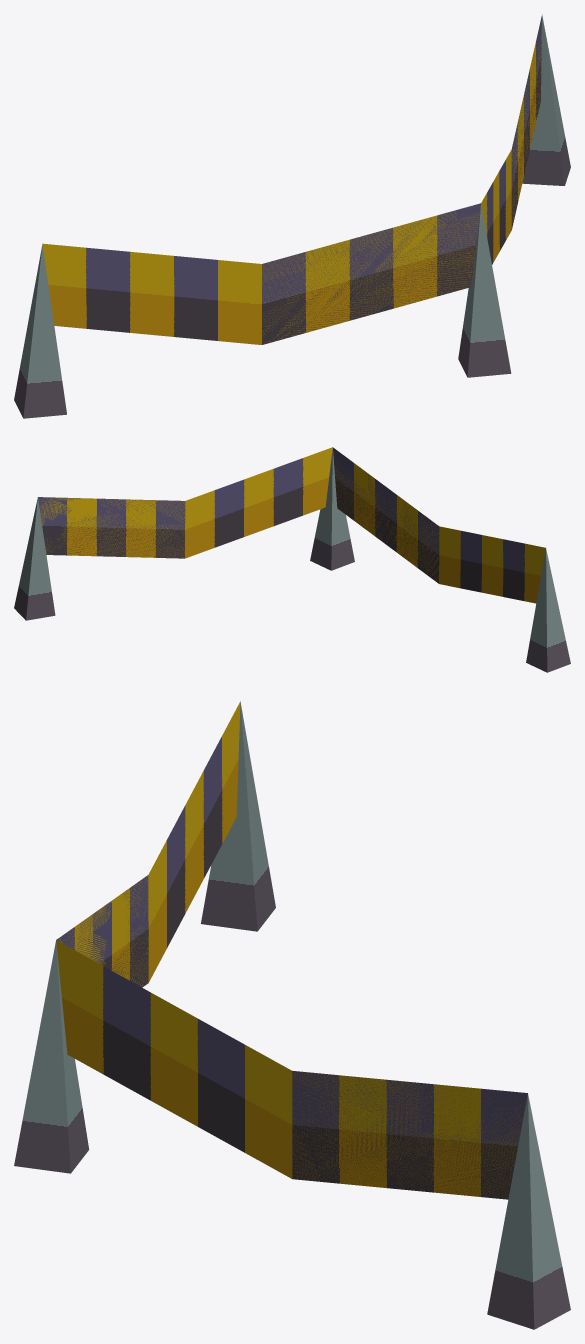
File: tape_double.fbx
3 views of the same model, one above another, from view 1: azimuth 30°, elevation 25°; view 2: azimuth 150°, elevation 25°; view 3: azimuth 270°, elevation 25° (orthographic). The views are drawn at different scales.
Parts seen in each view (by area): view 1: TapeDouble; view 2: TapeDouble; view 3: TapeDouble.
Part boxes in pixels (x1,y1,x2,y2): TapeDouble: (14,14,570,418); TapeDouble: (14,447,570,672); TapeDouble: (14,701,570,1329).
Bounding box in the file's own units: 53.59 × 12.68 × 29.13.
Materials: 1 (1 with a texture image).
